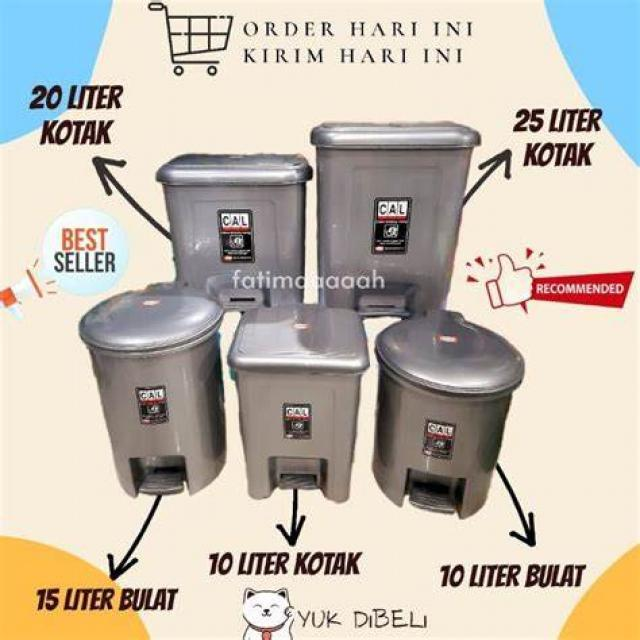garbage container: (374, 310, 558, 534), (66, 286, 240, 522), (313, 106, 487, 316), (224, 298, 376, 523), (146, 143, 320, 306)
